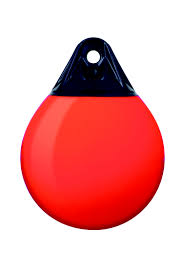buoy: (20, 94, 166, 230)
